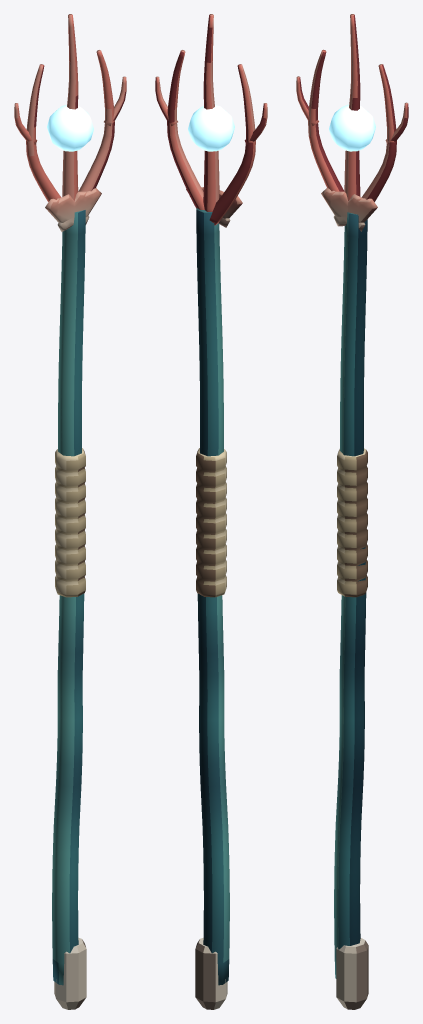
The model's file is st_tide_staff.glb.
3 renders of one model, left to right at view 1: azimuth 30°, elevation 25°; view 2: azimuth 150°, elevation 25°; view 3: azimuth 330°, elevation 25°, orthographic.
Visible parts, largest first — view 1: Weapon; view 2: Weapon; view 3: Weapon.
Boxes of the visible parts, x1,y1,x2,y2 form: Weapon: [14, 14, 126, 1009]; Weapon: [155, 14, 267, 1009]; Weapon: [296, 14, 408, 1009].
Bounding box in the file's own units: 0.2157 × 1.84 × 0.0761.
